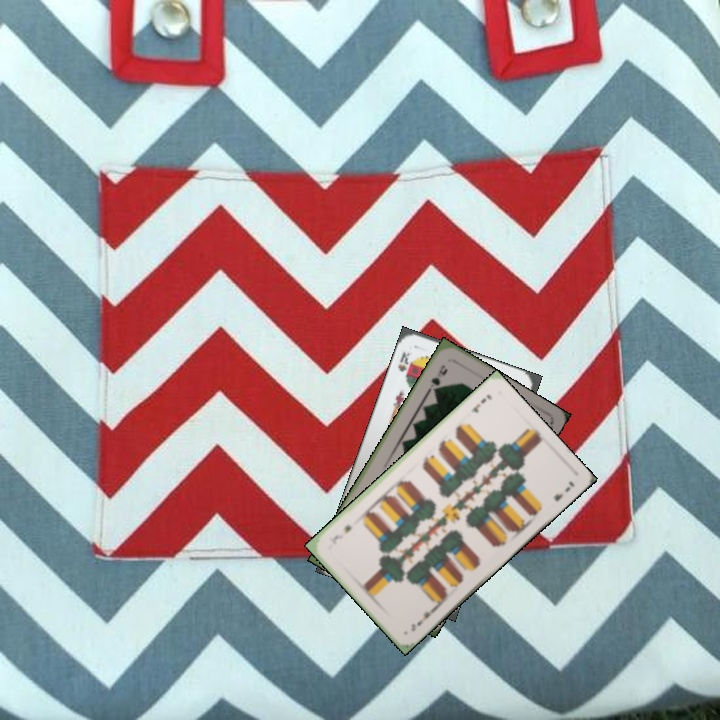E7: (407, 604, 438, 634), (468, 390, 495, 415)
G9: (424, 361, 450, 395)
SK: (393, 348, 412, 374)
